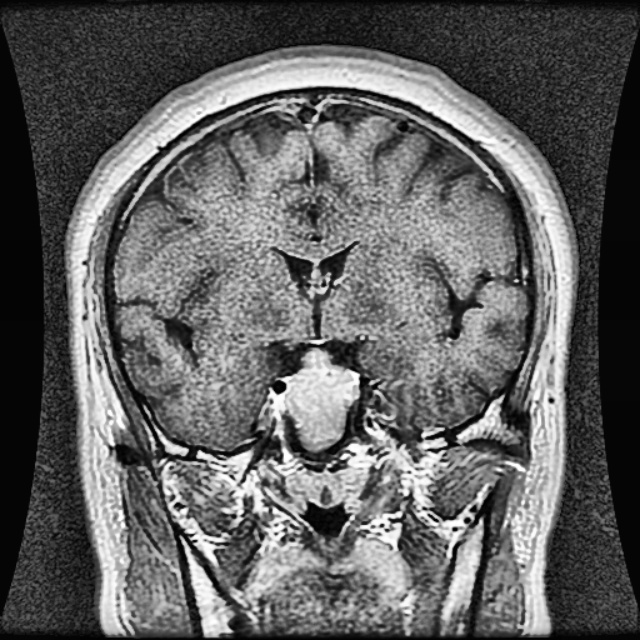Pituitary: (285, 348, 357, 449)
